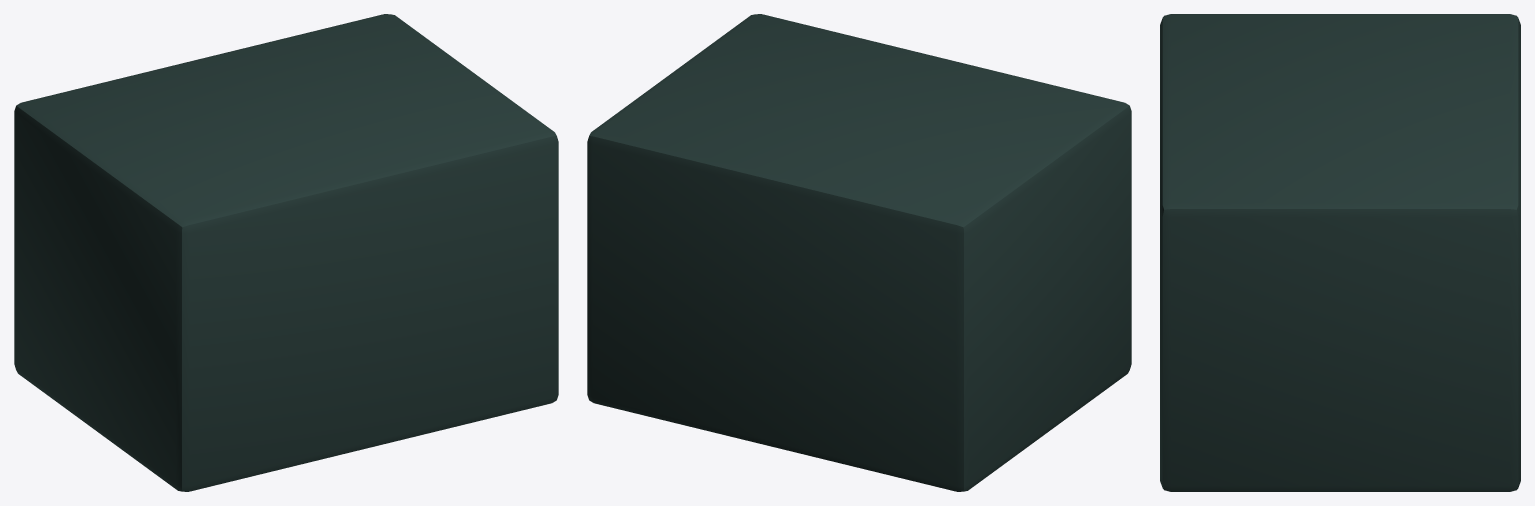
The model's file is emissif 2.fbx.
The picture shows the model from 3 angles, left to right: view 1: azimuth 30°, elevation 25°; view 2: azimuth 150°, elevation 25°; view 3: azimuth 270°, elevation 25°; orthographic projection. The views are drawn at different scales.
Parts seen in each view (by area): view 1: Object024; view 2: Object024; view 3: Object024.
Part boxes in pixels (box(x1,y1,x2,y2)): Object024: box(14, 14, 558, 491); Object024: box(587, 14, 1131, 491); Object024: box(1160, 14, 1520, 491).
Bounding box in the file's own units: 43.34 × 29.47 × 33.48.
